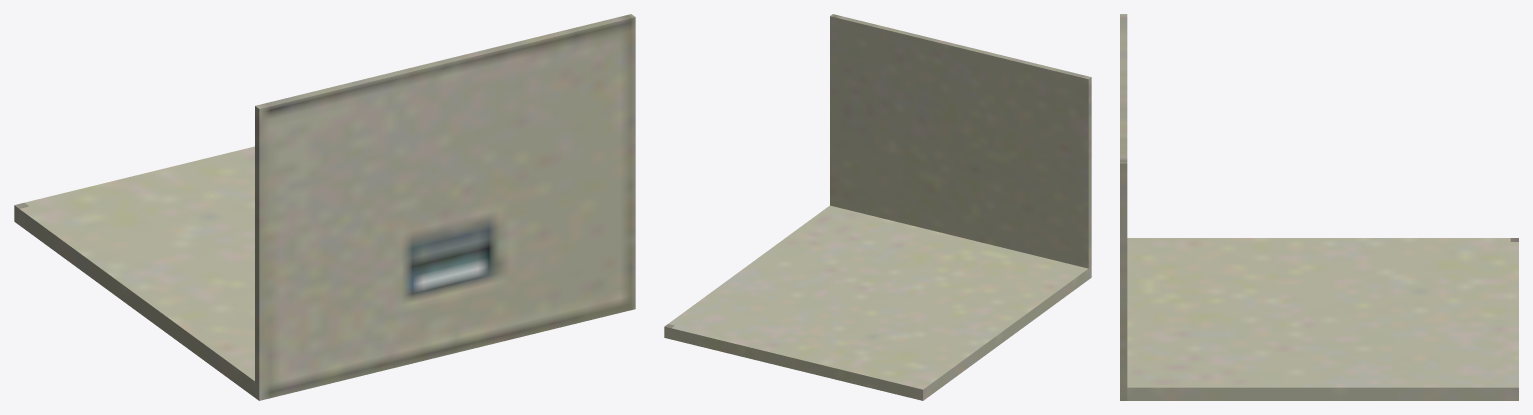
File: file_cabinet_small_shelf.obj
3 views of the same model, side by side, from view 1: azimuth 30°, elevation 25°; view 2: azimuth 150°, elevation 25°; view 3: azimuth 270°, elevation 25° (orthographic). The views are drawn at different scales.
Visible parts, largest first — view 1: file_cabinet_small_shelf; view 2: file_cabinet_small_shelf; view 3: file_cabinet_small_shelf.
Boxes of the visible parts, x1=… form: file_cabinet_small_shelf: x1=14, y1=14, x2=635, y2=400; file_cabinet_small_shelf: x1=664, y1=14, x2=1091, y2=400; file_cabinet_small_shelf: x1=1120, y1=14, x2=1518, y2=400.
Bounding box in the file's own units: 0.4647 × 0.3443 × 0.5239.
